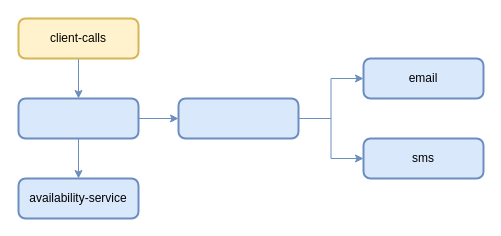
Some shapes in this 501 by 236 pixel diagram are drawn without their labels. The shapes that lost their labels are listed below. From the top down, each one's centre as x and y in pixels, then its label:
At pixel 78 118: "hub".
At pixel 238 118: "notification-service".
